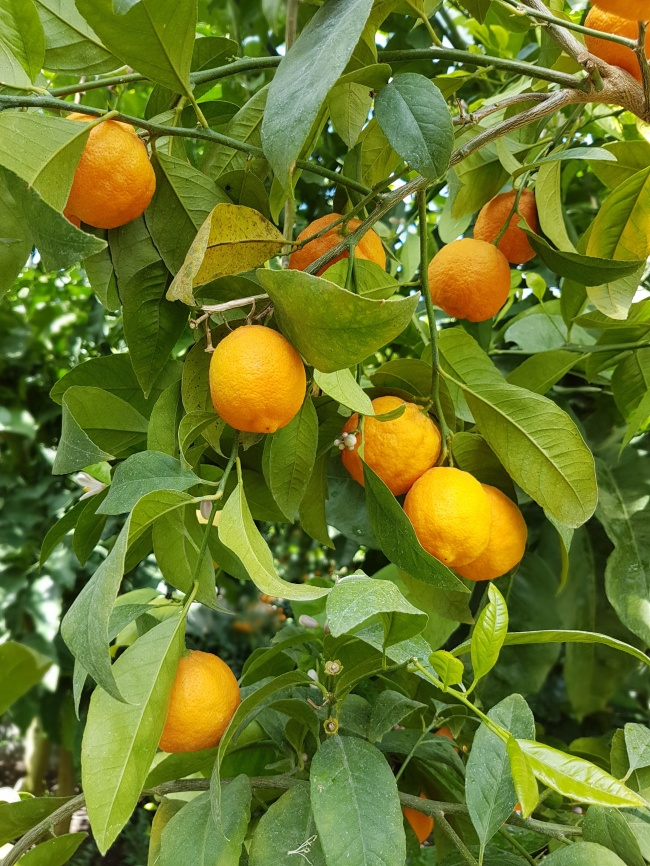orange: (58, 111, 157, 231), (135, 647, 243, 755), (206, 323, 310, 435), (344, 391, 443, 496), (287, 209, 387, 302), (401, 467, 489, 567), (440, 478, 528, 578), (426, 236, 513, 325), (475, 187, 555, 267), (584, 1, 650, 73)
